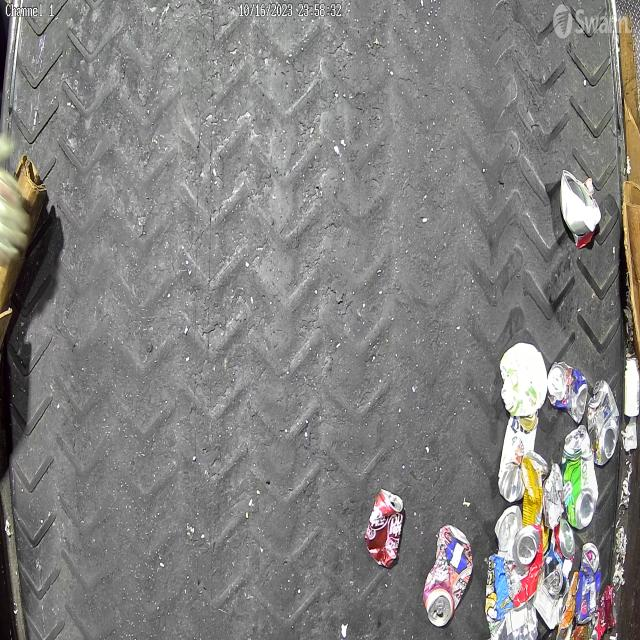can: (422, 524, 472, 628), (497, 409, 538, 504), (562, 424, 598, 530), (504, 524, 544, 610), (364, 488, 404, 570), (521, 450, 549, 555), (588, 380, 620, 466), (548, 360, 588, 424), (576, 542, 602, 624), (491, 604, 538, 640), (587, 584, 617, 640), (548, 518, 575, 578), (494, 506, 522, 558), (543, 559, 567, 597)
